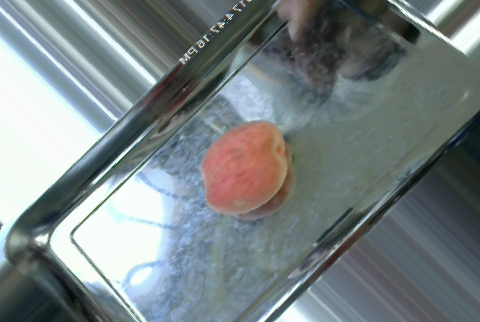Peach: (203, 120, 290, 214)
